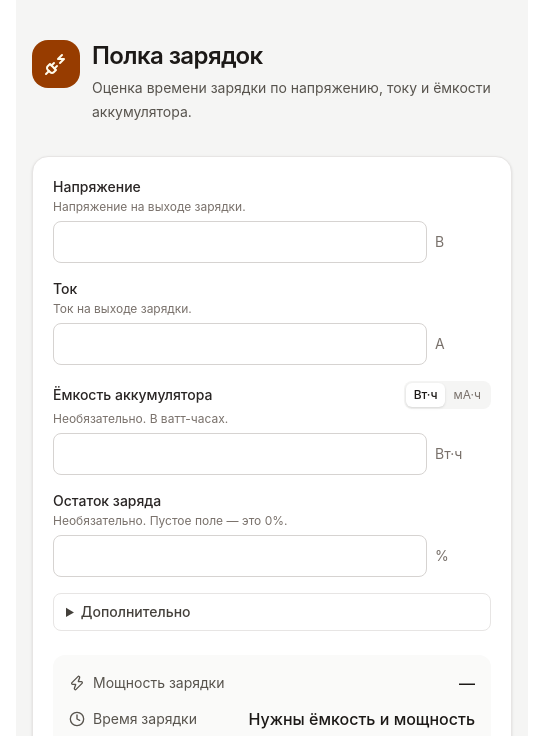
home calculator › estimates one hour for 10 Wh at 5 V and 2 A when efficiency is 100%
Click the heading "Дополнительно": click(136, 612) [81, 603, 190, 620]
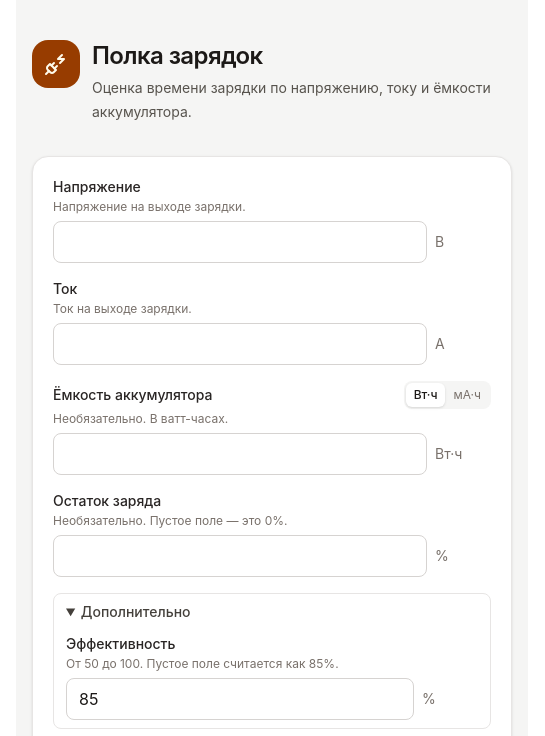
Replace the text in the number field labelled "Эффективность" with "100": (240, 699) [66, 678, 414, 720]
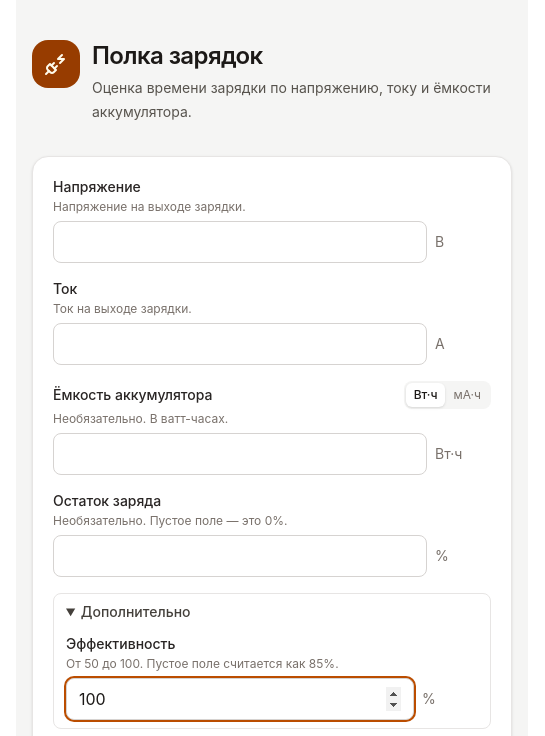
In the number field labelled "Напряжение": (240, 242) [53, 221, 427, 263], type "5"
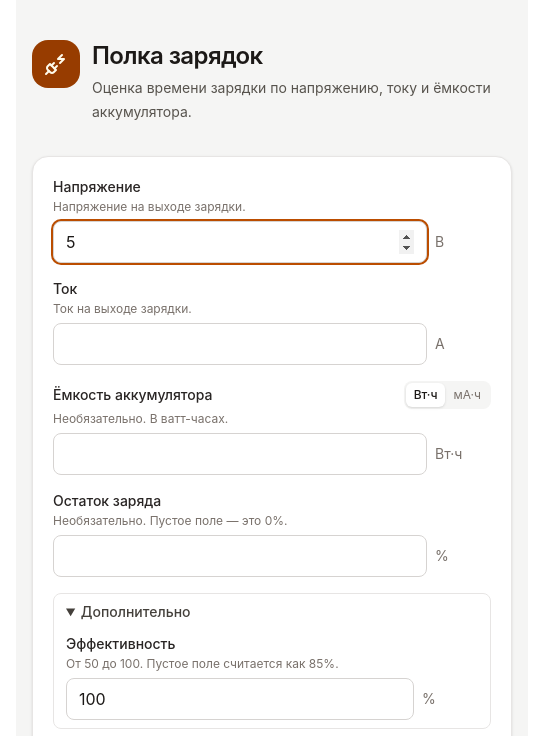
In the number field labelled "Ток": (240, 344) [53, 323, 427, 365], type "2"
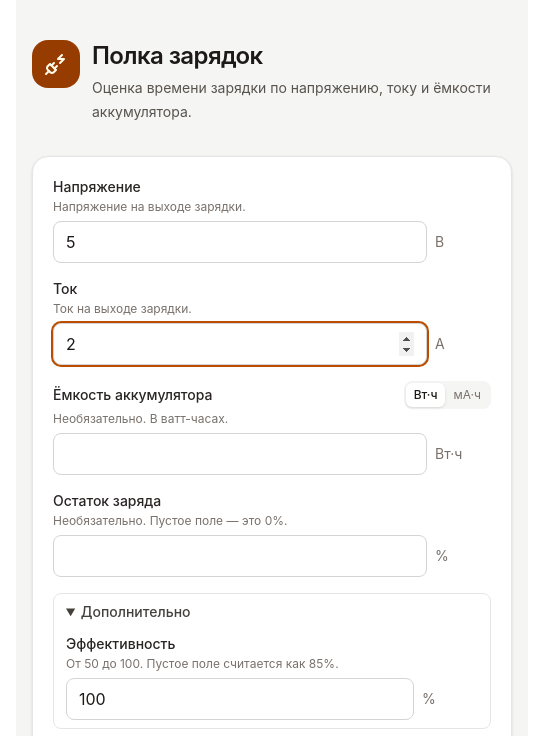
In the number field labelled "Ёмкость аккумулятора": (240, 454) [53, 433, 427, 475], type "10"
(page scrolled)
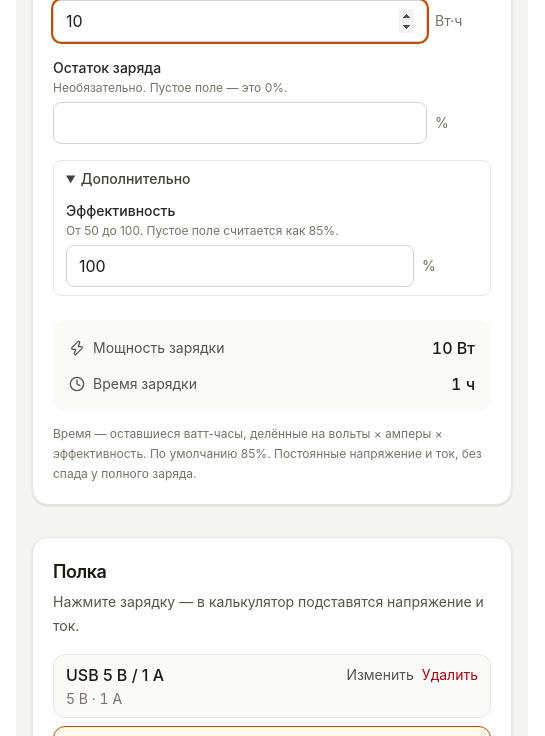
Expected: the text "10 Вт" is shown, [432, 336, 475, 360]
Expected: the text "1 ч" is shown, [451, 372, 475, 396]
